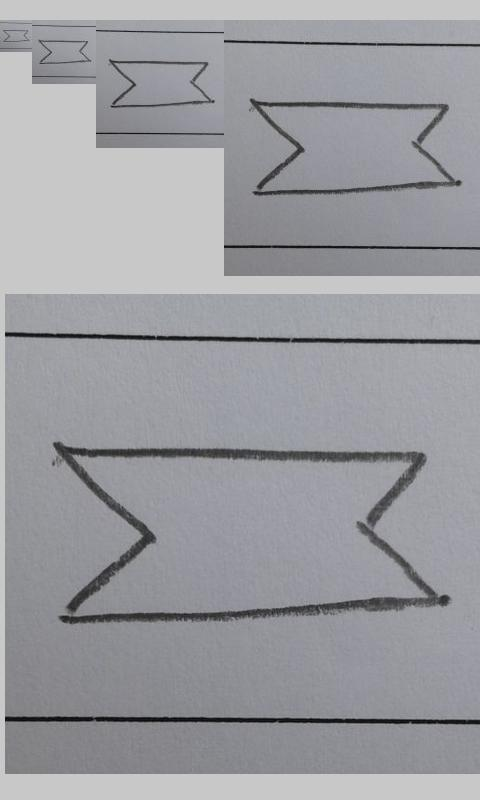edit_text: (57, 446, 440, 628), (251, 99, 455, 196), (109, 59, 211, 109), (39, 40, 90, 64), (3, 29, 29, 42)
